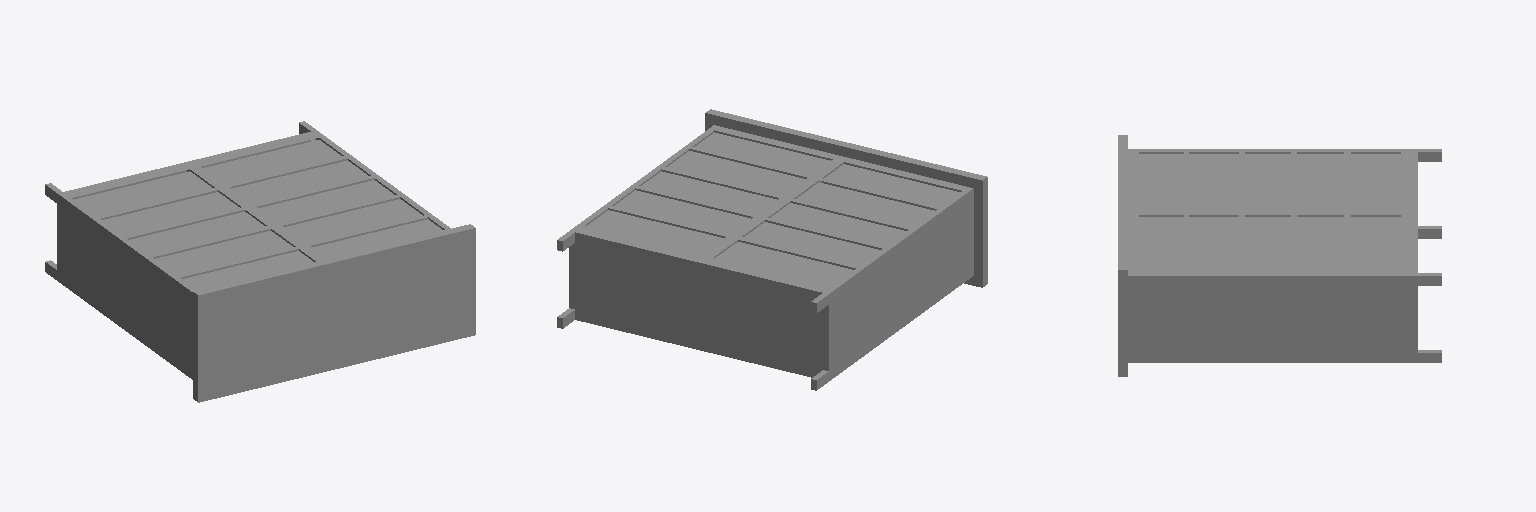
File: balala.obj
3 renders of one model, left to right at view 1: azimuth 30°, elevation 25°; view 2: azimuth 150°, elevation 25°; view 3: azimuth 270°, elevation 25°, orthographic.
Visible parts, largest first — view 1: Cube; view 2: Cube; view 3: Cube.
Part boxes in pixels (left/top/right/bottom): Cube: left=45, top=121, right=475, bottom=402; Cube: left=557, top=109, right=987, bottom=390; Cube: left=1118, top=135, right=1441, bottom=376.
Bounding box in the file's own units: 7.02 × 2.6 × 7.11.